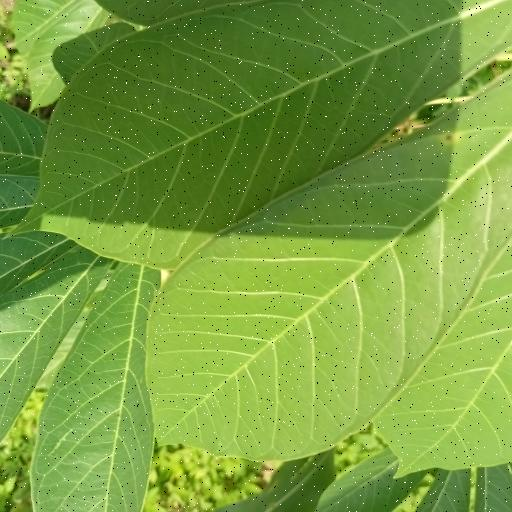Cassava_Healthy: (33, 0, 512, 469), (0, 101, 190, 512)
